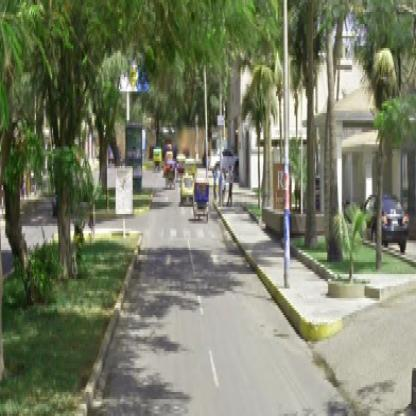Peaton: (227, 165, 234, 208)
Pista: (2, 160, 351, 415)
Vehiculo: (193, 179, 211, 222), (181, 174, 195, 208), (167, 160, 176, 191)
